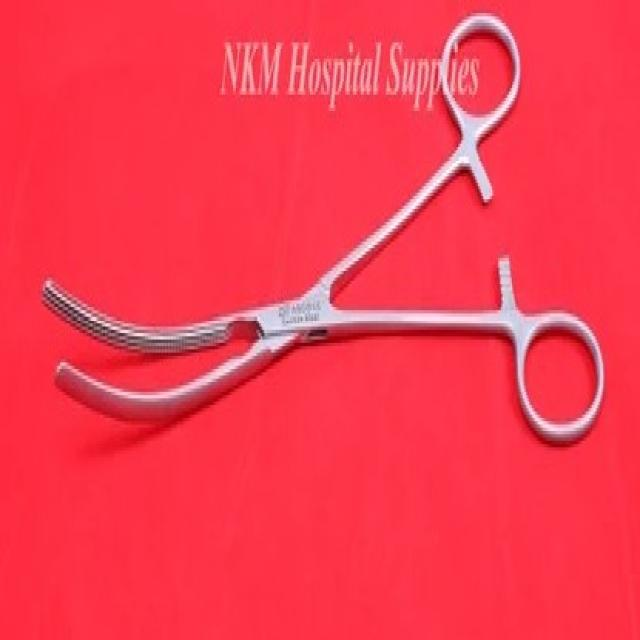Doyel Instestinal Forceps: (39, 17, 606, 450)
